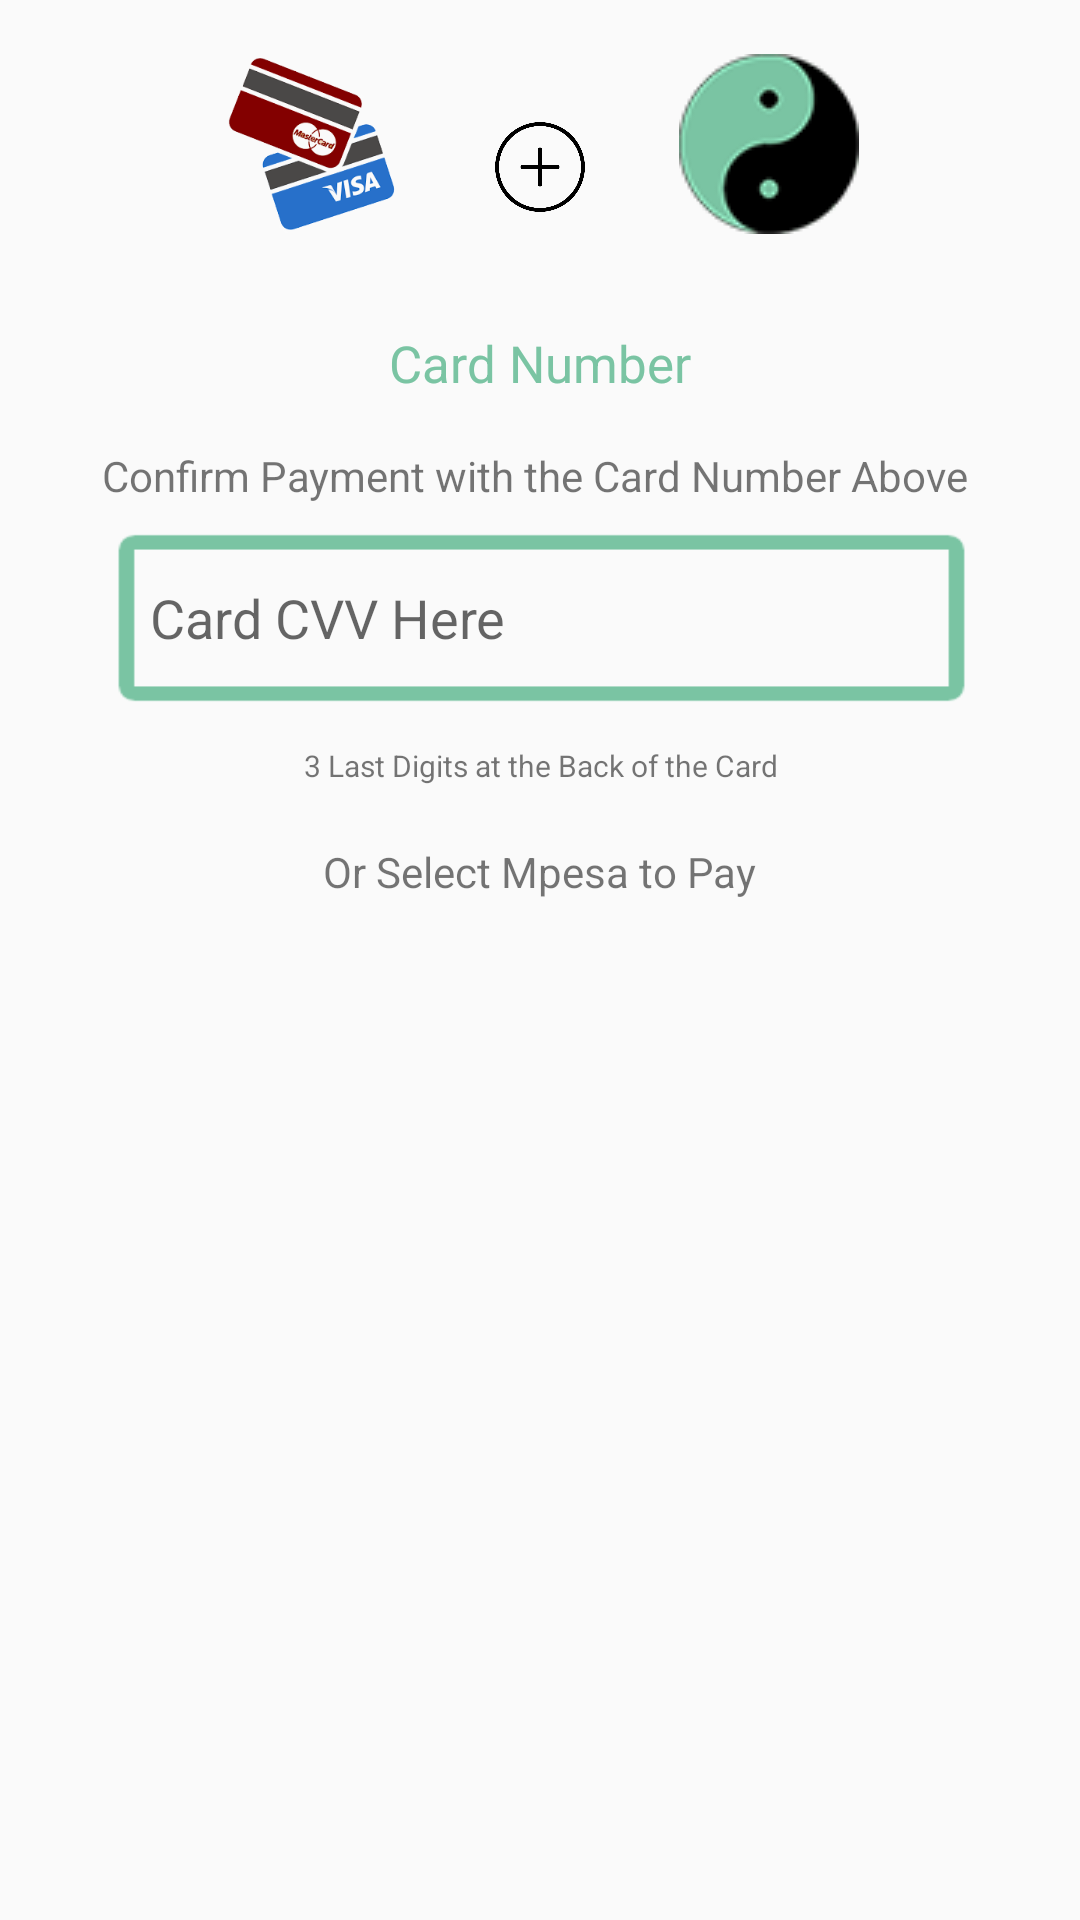

Icons on this 1080 × 1920 Android screen, each with the point to tap as (x=x, y=y):
add: (x=540, y=167)
